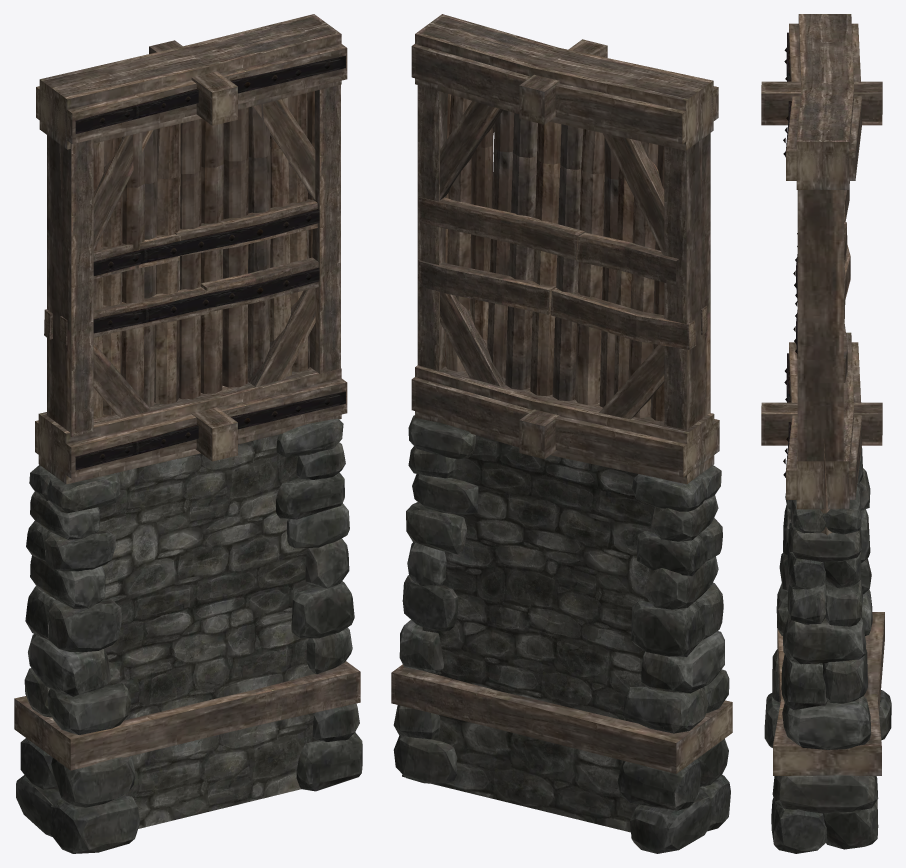
Rendered from jav_struc_def_truestone_walla_half_nospikes_b-transformed.glb.
3 renders of one model, left to right at view 1: azimuth 30°, elevation 25°; view 2: azimuth 150°, elevation 25°; view 3: azimuth 270°, elevation 25°, orthographic. The views are drawn at different scales.
Visible parts, largest first — view 1: default; view 2: default; view 3: default.
Boxes of the visible parts, x1,y1,x2,y2 form: default: [14, 14, 362, 853]; default: [391, 14, 732, 853]; default: [761, 14, 891, 853].
Bounding box in the file's own units: 4.28 × 10.27 × 1.7.
3 materials, 3 textured.
